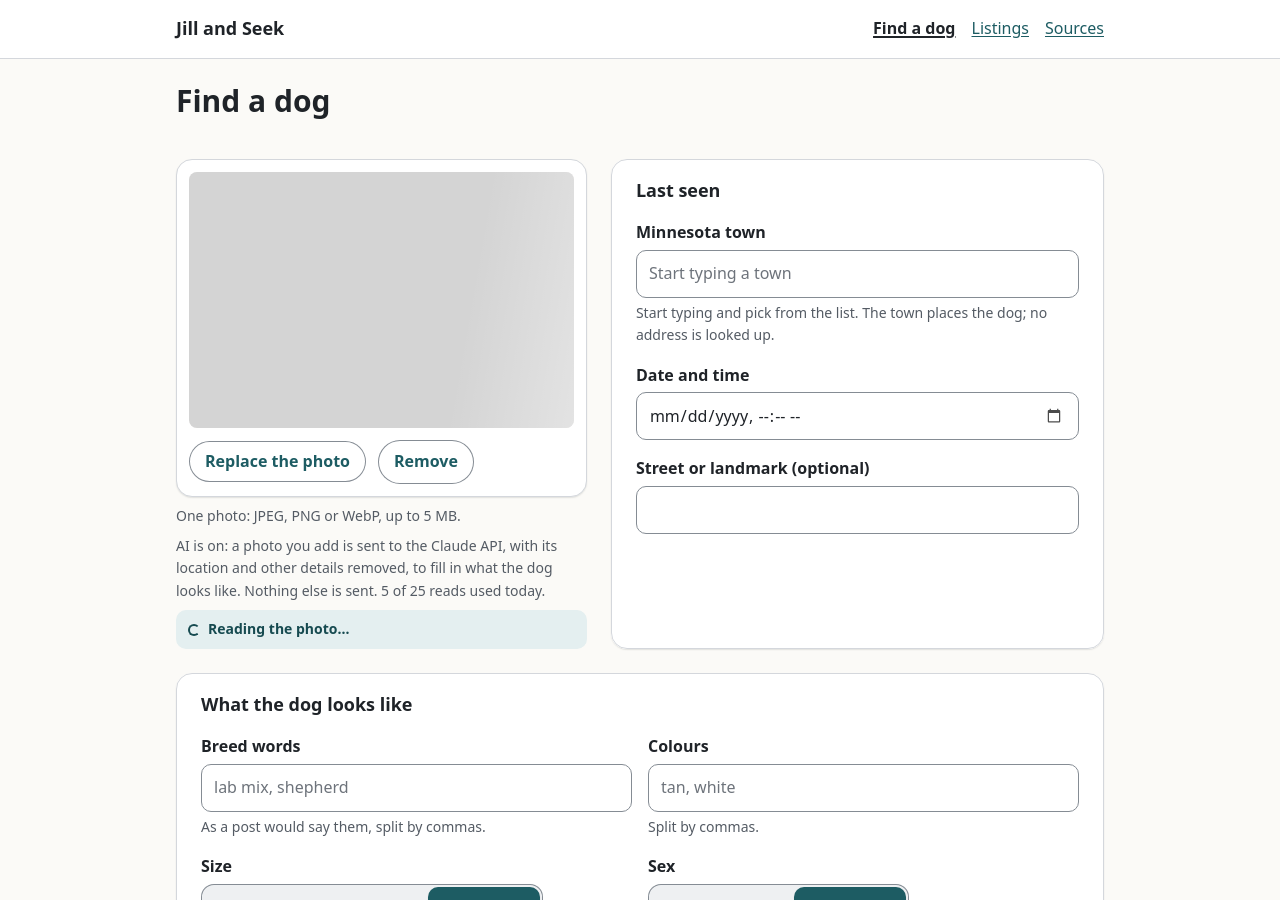
Scenario: a photo that fills in the traits › drops the answer for a photo that was replaced or removed while it was being read
Earlier steps of the test are not shown.
Check: the text "a photo you add is sent to the Claude API" is shown, box top-left (176, 536), bottom-right (557, 600)
Check: the field labelled "Breed words" is empty, box top-left (201, 764), bottom-right (632, 812)
Step 1. Click the button "Remove" → (426, 462), box top-left (378, 440), bottom-right (474, 484)
(page scrolled)
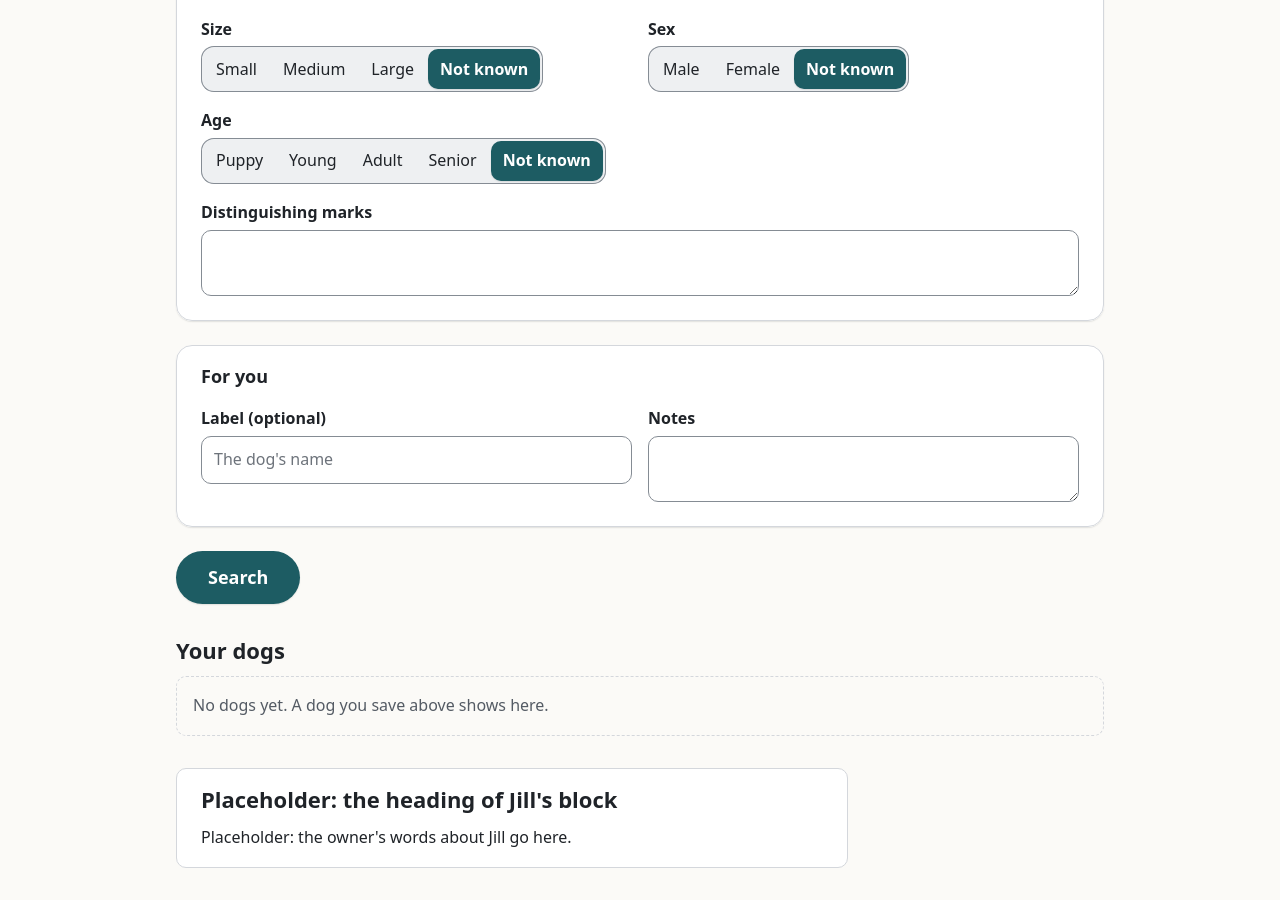
Check: the button "Search" is enabled, box top-left (176, 551), bottom-right (300, 604)
